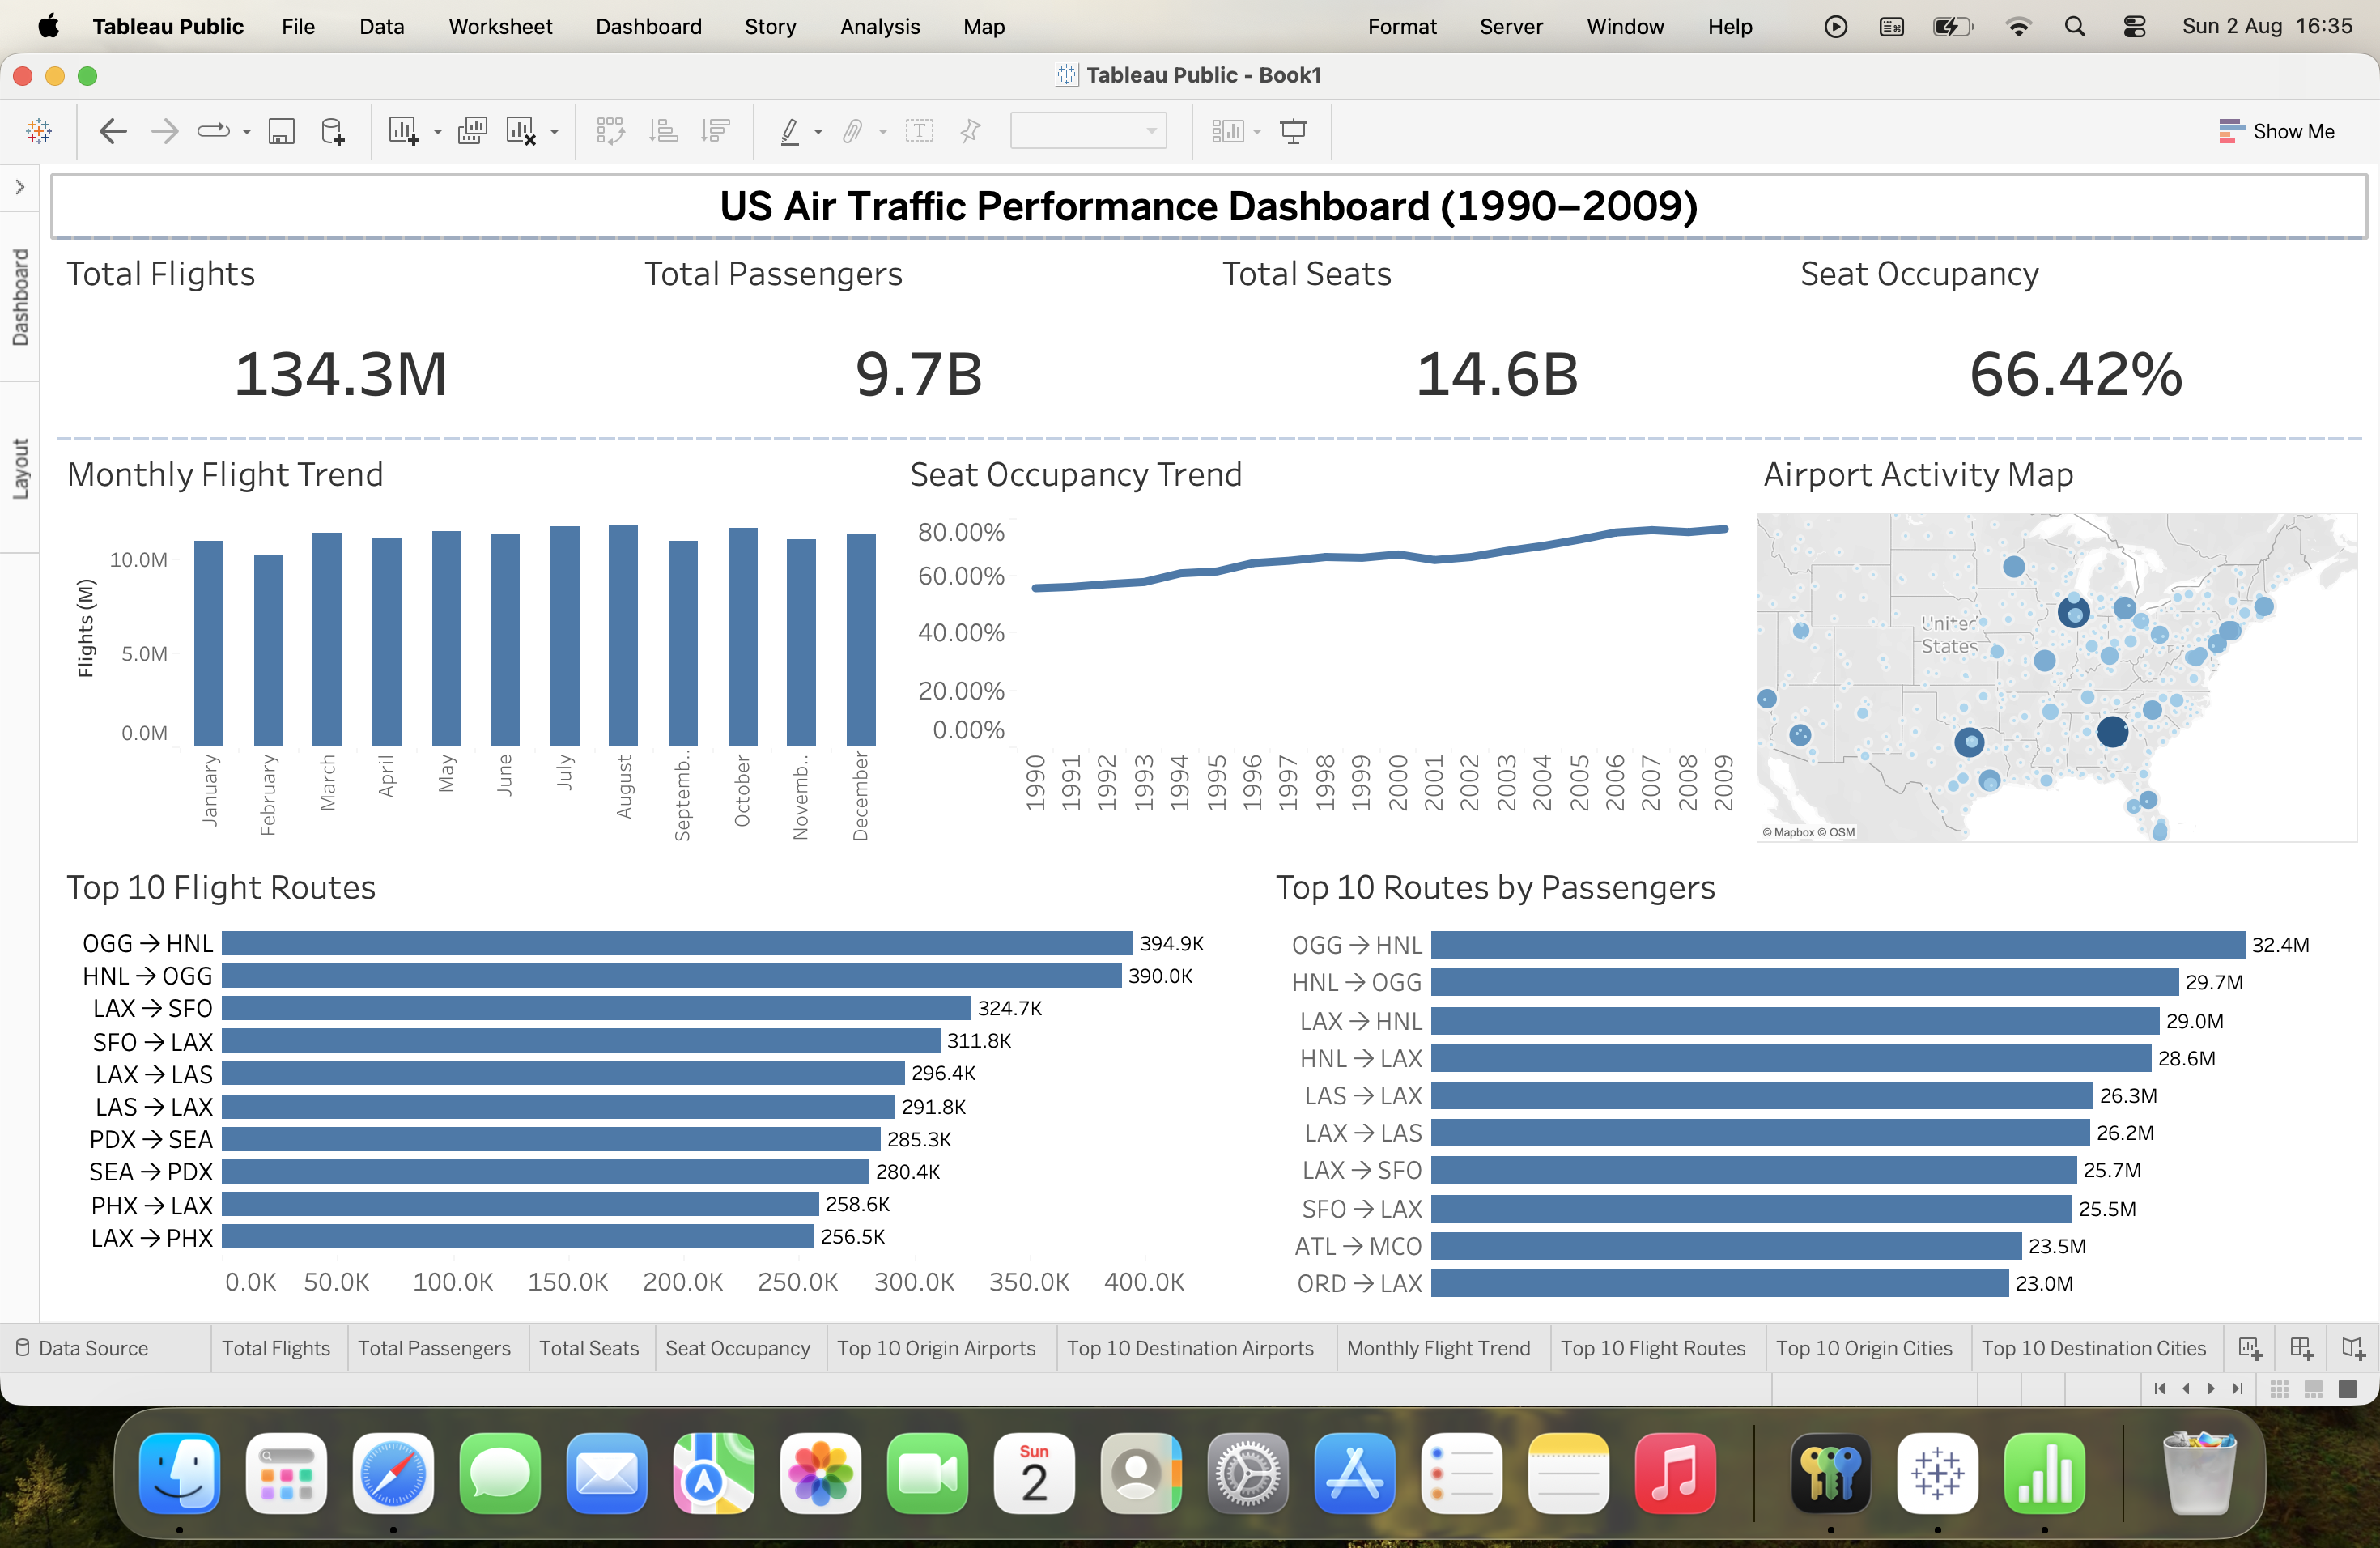

The page's visual inventory and layout, read from the dashboard file:
{"tool":"tableau","page":{"name":"Air Traffic Performance Dashboard","canvas":[1000,1000],"units":"permille","ordinal":0},"visuals":[{"type":"title","box":[6.4,11.2,987.3,51.8]},{"type":"worksheet","title":"Total Flights","mark":"Automatic","box":[6.4,62.9,246.8,173.4]},{"type":"worksheet","title":"Total Passengers","mark":"Automatic","box":[253.2,62.9,246.8,173.4]},{"type":"worksheet","title":"Total Seats","mark":"Automatic","box":[500,62.9,246.8,173.4]},{"type":"worksheet","title":"Seat Occupancy","mark":"Automatic","box":[746.8,62.9,246.8,173.4]},{"type":"worksheet","title":"Monthly Flight Trend","mark":"Bar","rows":["Calculation_0091495406657536"],"cols":["Fly_date"],"box":[6.4,236.4,413.8,356.6]},{"type":"worksheet","title":"Seat Occupancy Trend","mark":"Automatic","rows":["Calculation_0150319038291968"],"cols":["Fly_date"],"box":[420.2,236.4,310.7,356.6]},{"type":"worksheet","title":"Airport Activity Map","mark":"Automatic","rows":["Org_airport_lat"],"cols":["Org_airport_long"],"box":[730.9,236.4,262.8,356.6]},{"type":"worksheet","title":"Top 10 Flight Routes","mark":"Automatic","rows":["Calculation_0150319040561153"],"cols":["Flights"],"box":[6.4,593,516.3,395.8]},{"type":"worksheet","title":"Top 10 Routes by Passengers","mark":"Automatic","rows":["Calculation_0150319040561153"],"cols":["Passengers"],"box":[522.6,593,471,395.8]}]}

Visuals, with their boxes on the dashboard's canvas, which has no fixed pixel size, in thousandths of its width and height (x1, y1, x2, y2). These are canvas units, not pixel positions in the 2380x1548 screenshot, which may show the page scaled, cropped or inside an application window:
title: 6:11:994:63
"Total Flights" worksheet: 6:63:253:236
"Total Passengers" worksheet: 253:63:500:236
"Total Seats" worksheet: 500:63:747:236
"Seat Occupancy" worksheet: 747:63:994:236
"Monthly Flight Trend" worksheet (Bar marks): 6:236:420:593
"Seat Occupancy Trend" worksheet: 420:236:731:593
"Airport Activity Map" worksheet: 731:236:994:593
"Top 10 Flight Routes" worksheet: 6:593:523:989
"Top 10 Routes by Passengers" worksheet: 523:593:994:989
